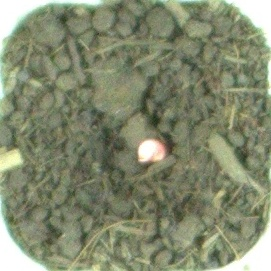chilli seed: (136, 136, 169, 165)
